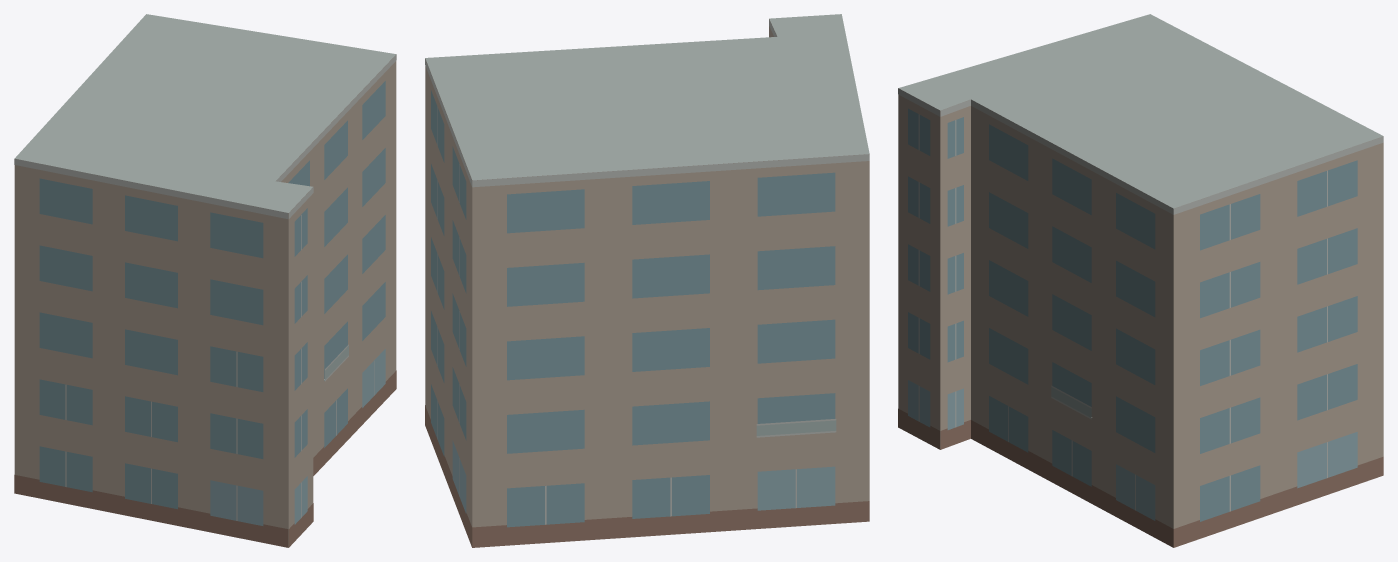
The model's file is survey-upis-32761376.glb.
3 views of the same model, side by side, from view 1: azimuth 30°, elevation 25°; view 2: azimuth 150°, elevation 25°; view 3: azimuth 270°, elevation 25° (orthographic). The views are drawn at different scales.
Visible parts, largest first — view 1: survey-upis-32761376.tmp; view 2: survey-upis-32761376.tmp; view 3: survey-upis-32761376.tmp.
Part boxes in pixels (x1,y1,x2,y2): survey-upis-32761376.tmp: [14, 14, 396, 547]; survey-upis-32761376.tmp: [425, 14, 869, 547]; survey-upis-32761376.tmp: [898, 14, 1383, 547].
Size of the model in its own units: 16 by 13 by 16.86.
